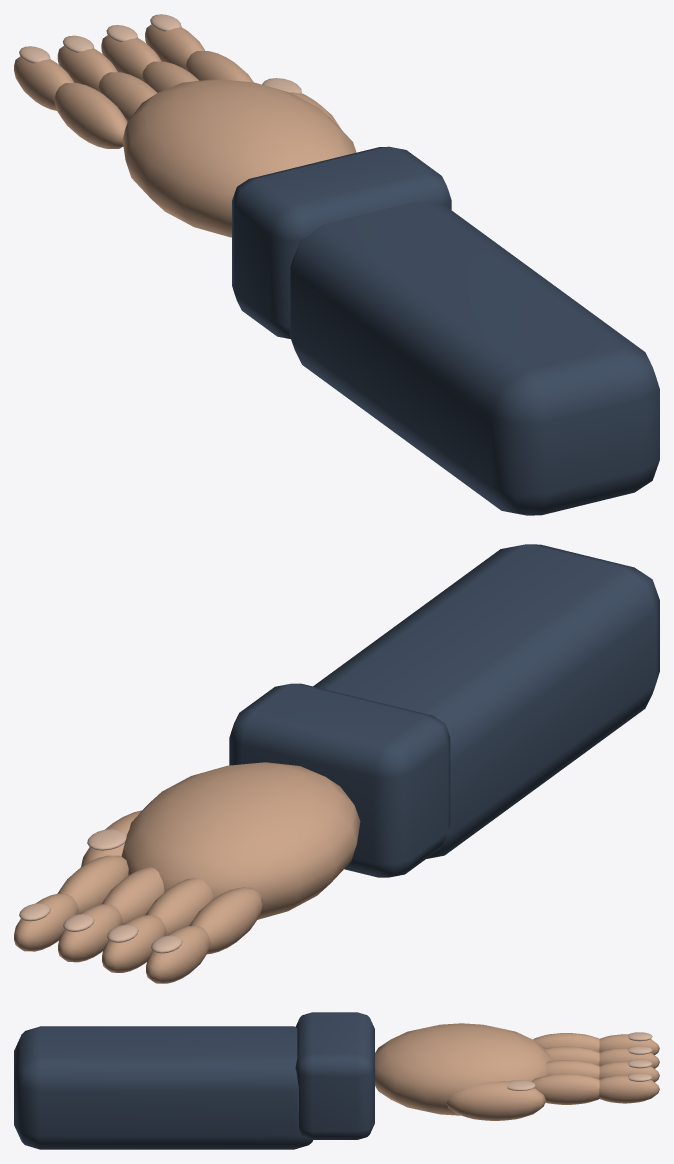
The model's file is hand.glb.
The picture shows the model from 3 angles, top to bottom: view 1: azimuth 30°, elevation 25°; view 2: azimuth 150°, elevation 25°; view 3: azimuth 270°, elevation 25°; orthographic projection. The views are drawn at different scales.
Parts seen in each view (by area): view 1: forearm, palm, sleeve cuff, finger proximal, finger distal, finger proximal.001, finger distal.001, finger distal.002, finger distal.003, finger proximal.003, finger proximal.002; view 2: forearm, palm, sleeve cuff, finger proximal, finger proximal.003, finger distal, finger proximal.001, finger distal.003, finger distal.002, finger distal.001, finger proximal.002, thumb (+1 smaller); view 3: forearm, palm, sleeve cuff, thumb, finger proximal.003, finger distal.003, finger proximal, finger proximal.002, finger proximal.001, finger distal.001, finger distal.002, finger distal (+1 smaller).
Boxes of the visible parts, bbox=[...] form: forearm: bbox=[290, 201, 659, 515]; palm: bbox=[122, 79, 356, 237]; sleeve cuff: bbox=[232, 146, 451, 338]; finger proximal: bbox=[54, 83, 127, 148]; finger distal: bbox=[14, 56, 74, 110]; finger proximal.001: bbox=[98, 72, 157, 121]; finger distal.001: bbox=[57, 46, 117, 90]; finger distal.002: bbox=[101, 35, 161, 80]; finger distal.003: bbox=[145, 24, 205, 69]; finger proximal.003: bbox=[185, 51, 253, 82]; finger proximal.002: bbox=[141, 61, 199, 92]; forearm: bbox=[313, 544, 659, 858]; palm: bbox=[121, 762, 360, 919]; sleeve cuff: bbox=[229, 683, 450, 877]; finger proximal: bbox=[189, 887, 262, 954]; finger proximal.003: bbox=[57, 855, 128, 914]; finger distal: bbox=[146, 926, 210, 983]; finger proximal.001: bbox=[145, 878, 213, 935]; finger distal.003: bbox=[14, 893, 78, 951]; finger distal.002: bbox=[58, 904, 122, 962]; finger distal.001: bbox=[102, 915, 166, 972]; finger proximal.002: bbox=[102, 867, 164, 924]; thumb: bbox=[81, 810, 141, 866]; forearm: bbox=[14, 1026, 312, 1149]; palm: bbox=[375, 1023, 552, 1115]; sleeve cuff: bbox=[295, 1012, 374, 1139]; thumb: bbox=[447, 1081, 545, 1120]; finger proximal.003: bbox=[531, 1073, 599, 1104]; finger distal.003: bbox=[599, 1075, 659, 1103]; finger proximal: bbox=[533, 1033, 599, 1051]; finger proximal.002: bbox=[545, 1060, 599, 1078]; finger proximal.001: bbox=[545, 1046, 599, 1065]; finger distal.001: bbox=[599, 1048, 659, 1068]; finger distal.002: bbox=[599, 1061, 659, 1082]; finger distal: bbox=[599, 1034, 659, 1054].
Bounding box in the file's own units: 0.104 × 0.0765 × 0.443.
